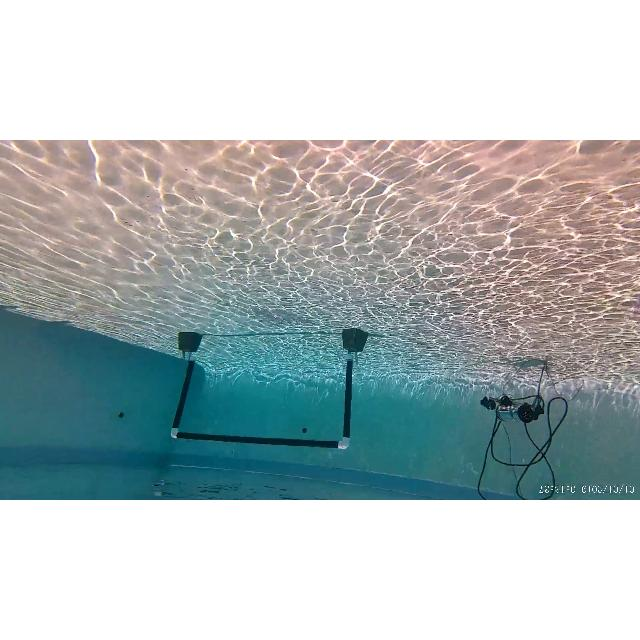prequal gate: (170, 358, 354, 449)
prequal gate leg l: (335, 328, 369, 452)
prequal gate leg r: (167, 332, 199, 441)
